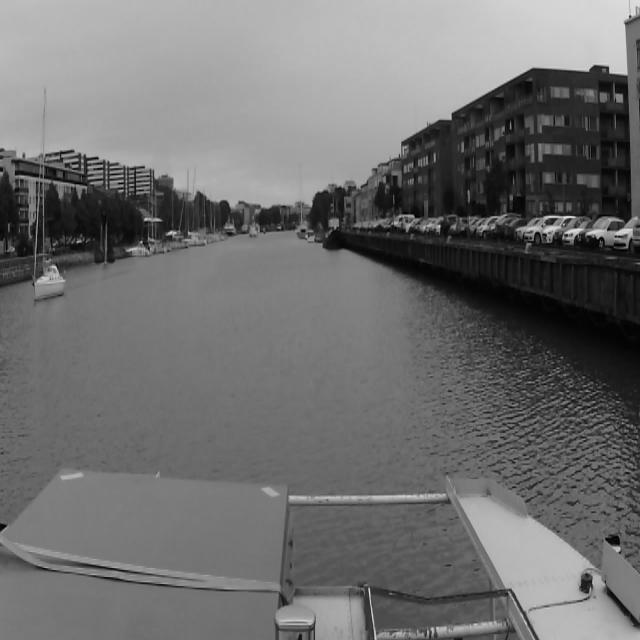ship: (33, 88, 66, 299), (148, 168, 166, 254), (188, 164, 206, 246), (166, 185, 188, 250), (297, 172, 307, 238), (323, 218, 343, 247), (127, 241, 151, 257), (224, 215, 237, 236), (249, 219, 257, 237), (240, 224, 248, 235)
